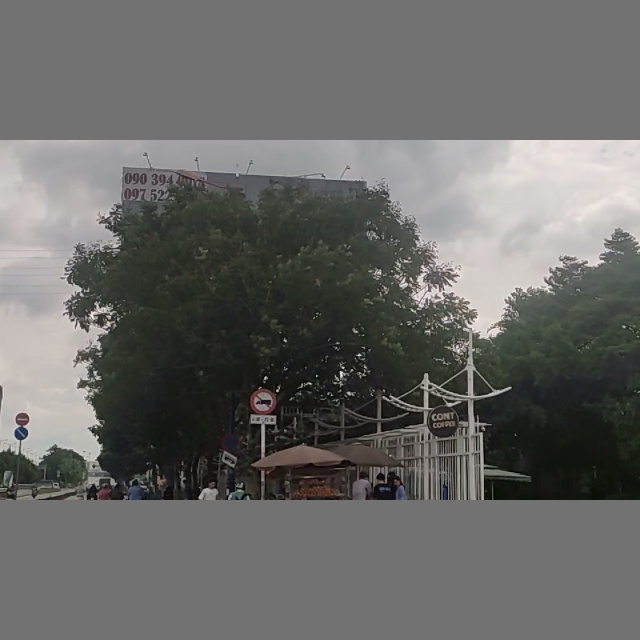B.8a: (251, 390, 276, 425)
P.102: (15, 412, 29, 425)
R.302a: (15, 427, 29, 441)
